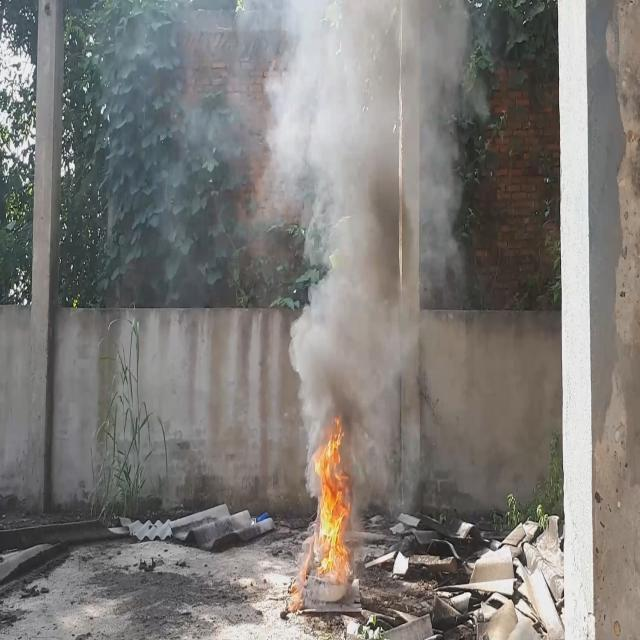Fire: (308, 410, 356, 572)
Smoke: (173, 0, 494, 474)
